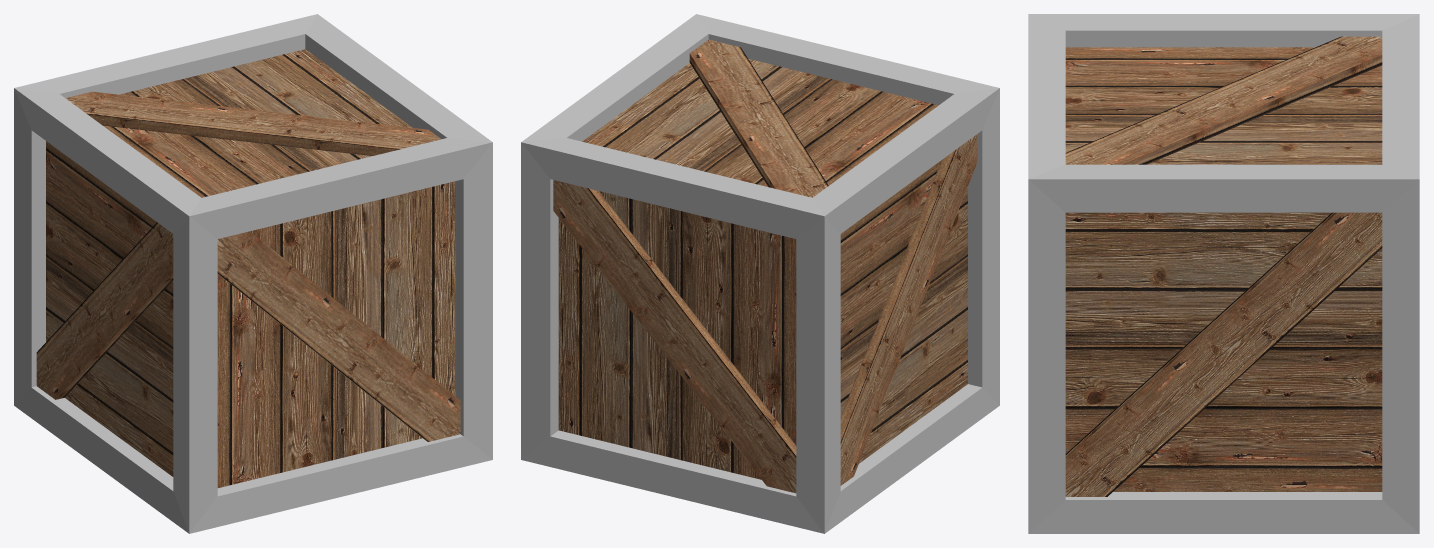
The model's file is crate.dae.
3 renders of one model, left to right at view 1: azimuth 30°, elevation 25°; view 2: azimuth 150°, elevation 25°; view 3: azimuth 270°, elevation 25°, orthographic. The views are drawn at different scales.
Parts seen in each view (by area): view 1: Cube.005; view 2: Cube.005; view 3: Cube.005.
Part boxes in pixels (box(x1,y1,x2,y2)): Cube.005: box(14, 14, 492, 533); Cube.005: box(521, 14, 999, 533); Cube.005: box(1028, 14, 1419, 533).
Bounding box in the file's own units: 2 × 2 × 2.
